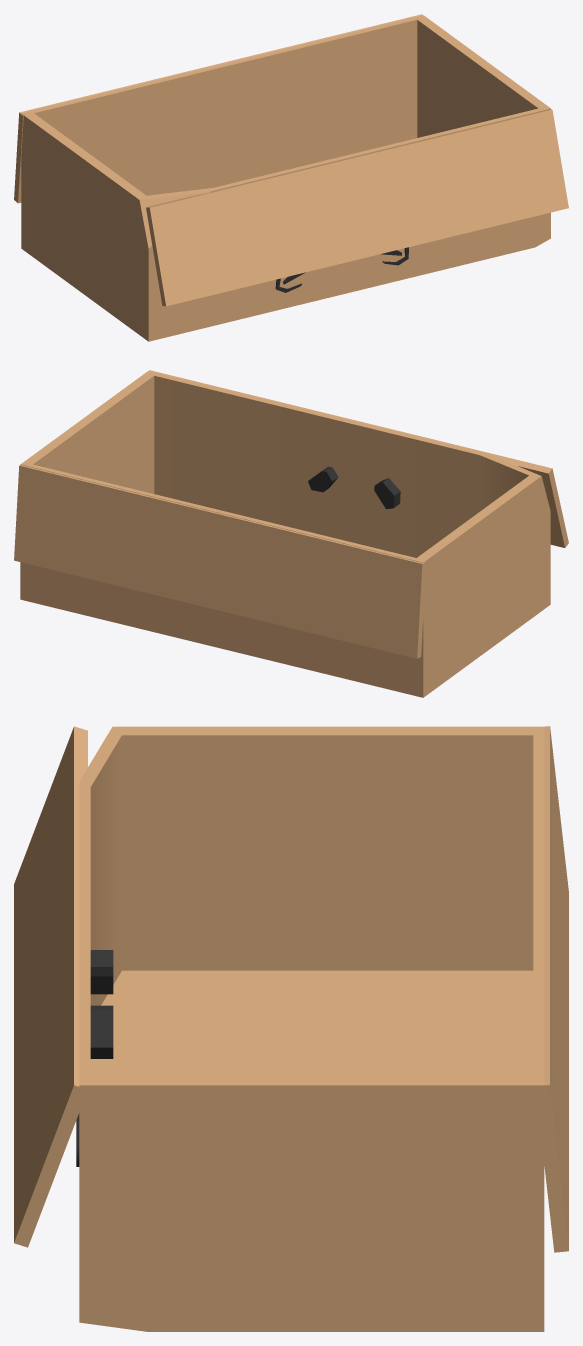
File: SM_Box_Open_Med.fbx
3 views of the same model, one above another, from view 1: azimuth 30°, elevation 25°; view 2: azimuth 150°, elevation 25°; view 3: azimuth 270°, elevation 25° (orthographic). The views are drawn at different scales.
Parts seen in each view (by area): view 1: Box_Open_Med; view 2: Box_Open_Med; view 3: Box_Open_Med.
Part boxes in pixels (x1,y1,x2,y2): Box_Open_Med: (14, 14, 568, 341); Box_Open_Med: (14, 370, 568, 697); Box_Open_Med: (14, 726, 568, 1331).
Bounding box in the file's own units: 160 × 51.26 × 105.
